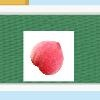raw: (28, 38, 65, 78)
